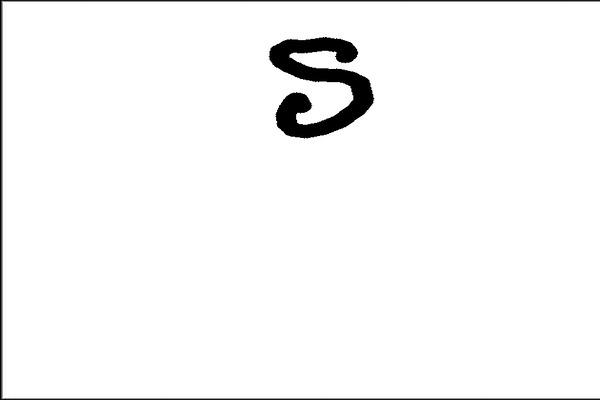S: (256, 29, 377, 143)
